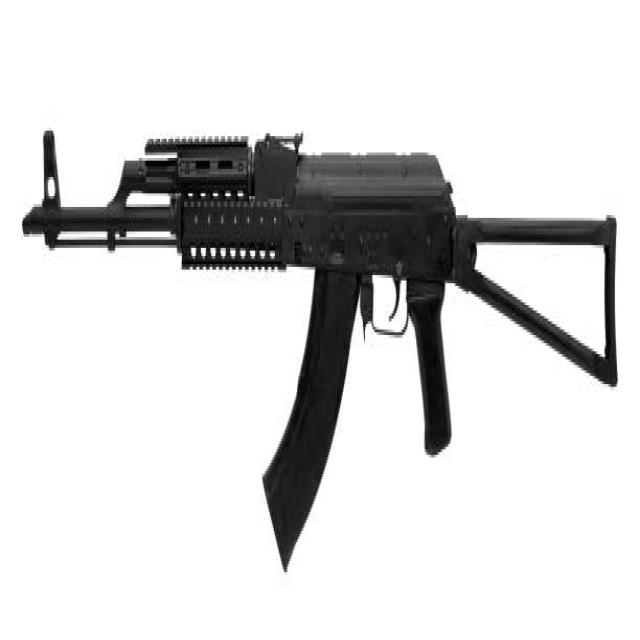rifle: (22, 98, 624, 579)
